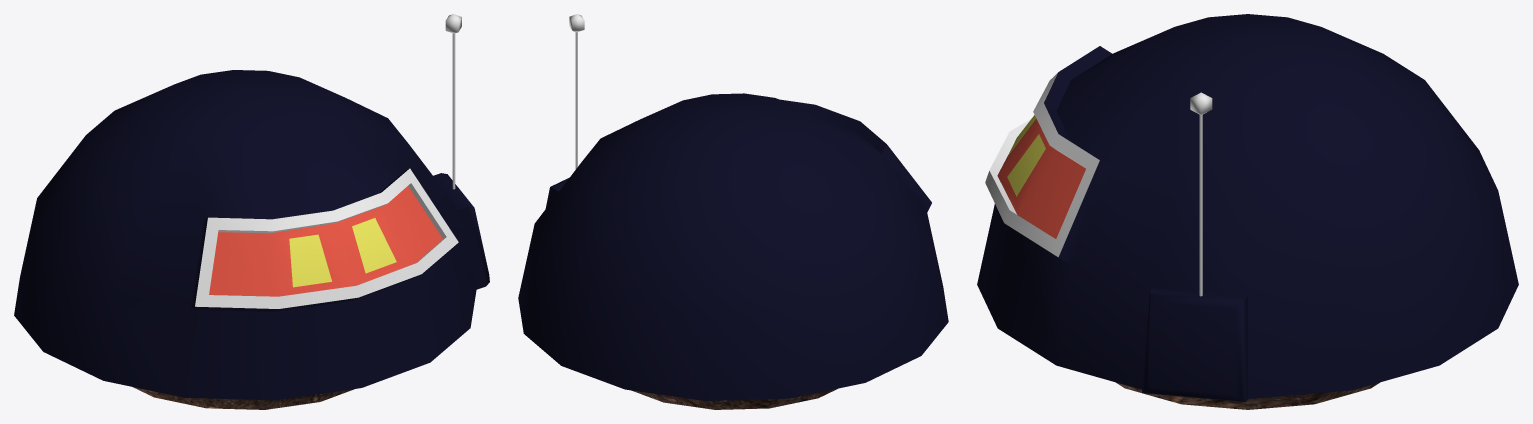
File: flyingrobot.fbx
3 renders of one model, left to right at view 1: azimuth 30°, elevation 25°; view 2: azimuth 150°, elevation 25°; view 3: azimuth 270°, elevation 25°, orthographic. The views are drawn at different scales.
Visible parts, largest first — view 1: Sphere.003, Cylinder.009; view 2: Sphere.003, Cylinder.009; view 3: Sphere.003, Cylinder.009.
Part boxes in pixels (box(x1,y1,x2,y2)): Sphere.003: box(14, 70, 489, 409); Cylinder.009: box(452, 33, 455, 189); Sphere.003: box(518, 93, 948, 409); Cylinder.009: box(575, 32, 577, 169); Sphere.003: box(977, 14, 1518, 409); Cylinder.009: box(1199, 114, 1202, 296).
Bounding box in the file's own units: 2.06 × 1.48 × 2.
